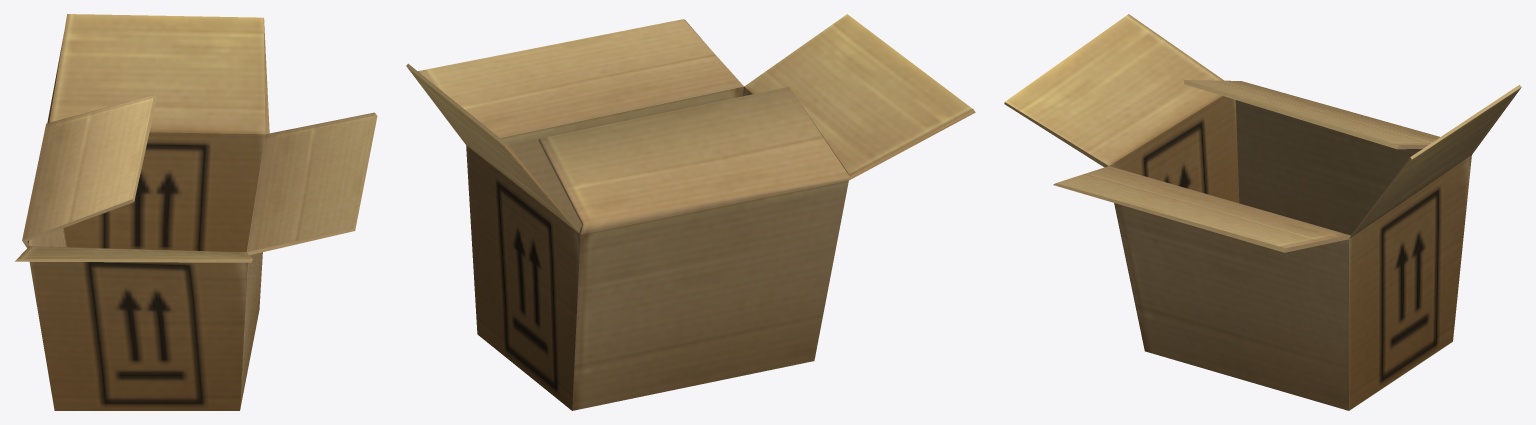
The model's file is JiaoWaiSenLin_zhixiangzi_01.FBX.
3 renders of one model, left to right at view 1: azimuth 30°, elevation 25°; view 2: azimuth 150°, elevation 25°; view 3: azimuth 270°, elevation 25°, orthographic. The views are drawn at different scales.
Visible parts, largest first — view 1: Object038; view 2: Object038; view 3: Object038.
Part boxes in pixels (x1=…): Object038: x1=15, y1=14, x2=377, y2=410; Object038: x1=406, y1=14, x2=975, y2=410; Object038: x1=1004, y1=14, x2=1521, y2=410.
Bounding box in the file's own units: 410 × 234 × 405.
